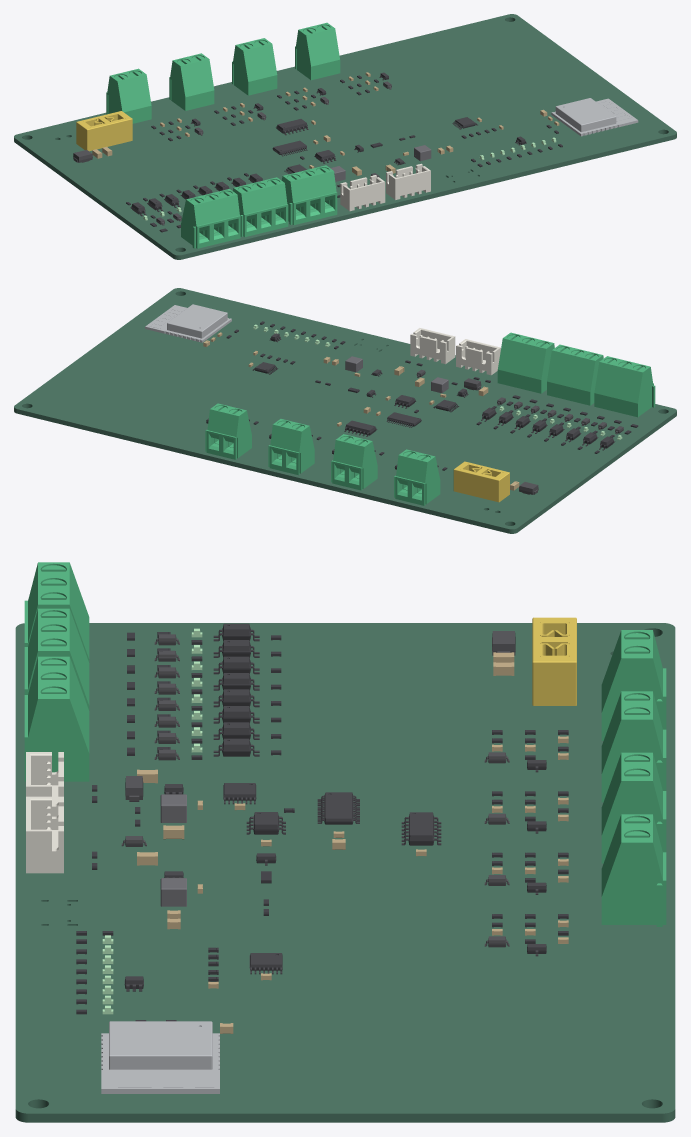
Rendered from AP_RACKAO4.fbx.
The picture shows the model from 3 angles, top to bottom: view 1: azimuth 30°, elevation 25°; view 2: azimuth 150°, elevation 25°; view 3: azimuth 270°, elevation 25°; orthographic projection. The views are drawn at different scales.
Parts seen in each view (by area): view 1: =>[0:1:1:26], J3, J5, J4, J7, J8, J9, U3, J6, F1, JL1, JL2; view 2: =>[0:1:1:26], J3, J5, J4, J9, J8, J7, J6, U3, F1, JL2, JL1; view 3: =>[0:1:1:26], U3, J9, J5, J8, J6, J7, F1, J4, J3, JL2, JL1 (+2 smaller).
Part boxes in pixels (<box>): =>[0:1:1:26]: <box>14,14,676,259</box>; J3: <box>181,189,240,248</box>; J5: <box>281,165,337,225</box>; J4: <box>233,177,288,237</box>; J7: <box>169,53,214,110</box>; J8: <box>232,38,277,95</box>; J9: <box>295,22,340,80</box>; U3: <box>551,98,638,136</box>; J6: <box>106,68,151,123</box>; F1: <box>76,111,132,151</box>; JL1: <box>340,175,385,211</box>; JL2: <box>386,163,430,199</box>; =>[0:1:1:26]: <box>14,288,676,533</box>; J3: <box>594,356,655,417</box>; J5: <box>497,332,554,393</box>; J4: <box>547,344,603,405</box>; J9: <box>205,403,251,459</box>; J8: <box>268,419,314,475</box>; J7: <box>331,434,377,490</box>; J6: <box>394,449,440,505</box>; U3: <box>145,304,231,342</box>; F1: <box>453,461,509,502</box>; JL2: <box>410,328,455,364</box>; JL1: <box>456,339,500,375</box>; =>[0:1:1:26]: <box>15,623,675,1122</box>; U3: <box>101,1021,219,1093</box>; J9: <box>601,814,666,926</box>; J5: <box>24,656,89,781</box>; J8: <box>601,752,666,863</box>; J6: <box>601,630,666,740</box>; J7: <box>601,691,666,802</box>; F1: <box>532,617,576,705</box>; J4: <box>24,608,89,710</box>; J3: <box>24,562,89,662</box>; JL2: <box>26,796,63,873</box>; JL1: <box>26,752,63,816</box>.
Size of the model in its own units: 17.6 by 1.73 by 10.
